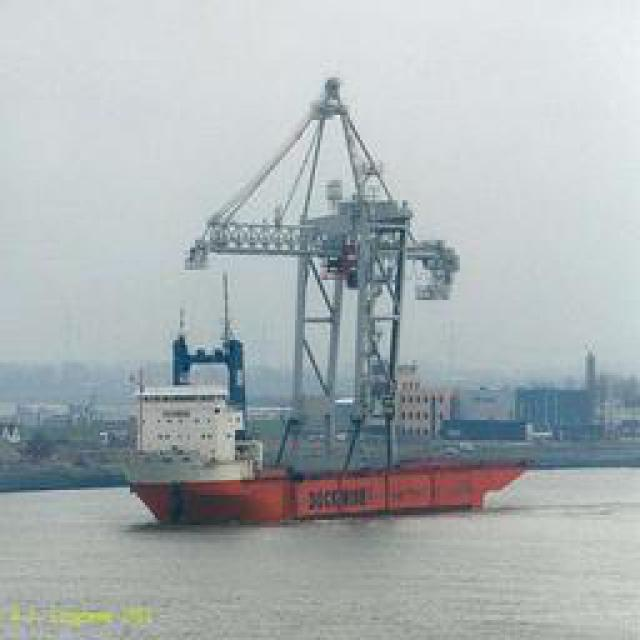Ship: (119, 73, 509, 518)
